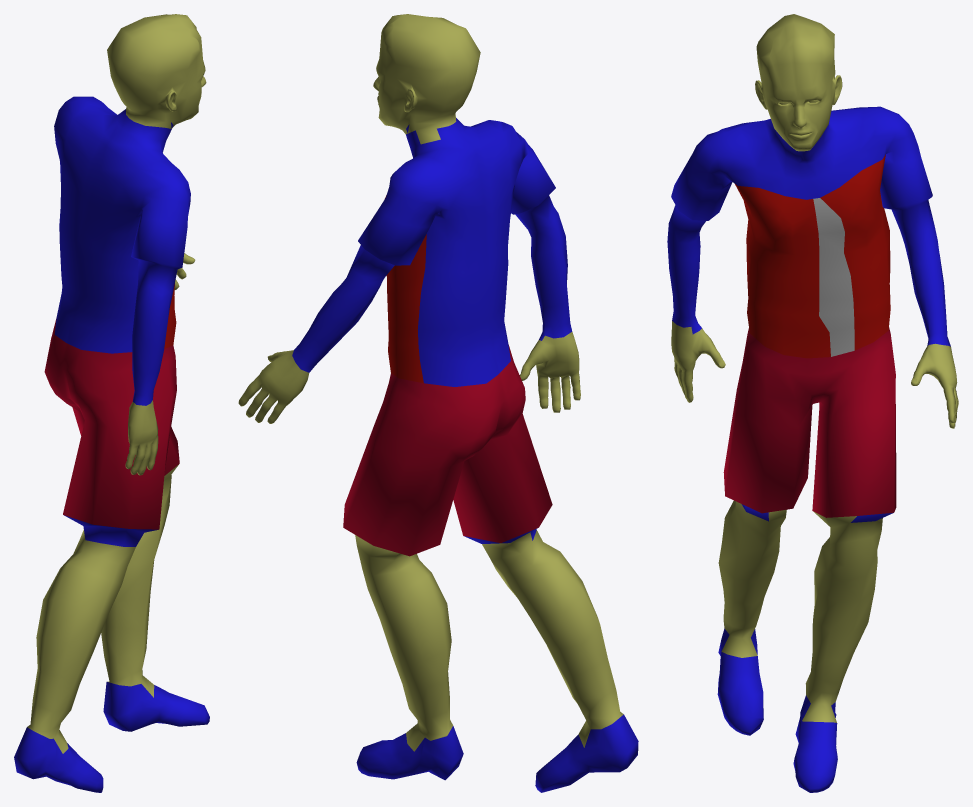
File: player_000009.obj
The picture shows the model from 3 angles, left to right: view 1: azimuth 30°, elevation 25°; view 2: azimuth 150°, elevation 25°; view 3: azimuth 270°, elevation 25°; orthographic projection. The views are drawn at different scales.
Visible parts, largest first — view 1: soccerplayer_mesh; view 2: soccerplayer_mesh; view 3: soccerplayer_mesh.
Boxes of the visible parts, x1,y1,x2,y2 form: soccerplayer_mesh: [14, 14, 209, 792]; soccerplayer_mesh: [238, 14, 638, 792]; soccerplayer_mesh: [667, 14, 958, 792].
Size of the model in its own units: 2.1 by 5.43 by 1.9.
